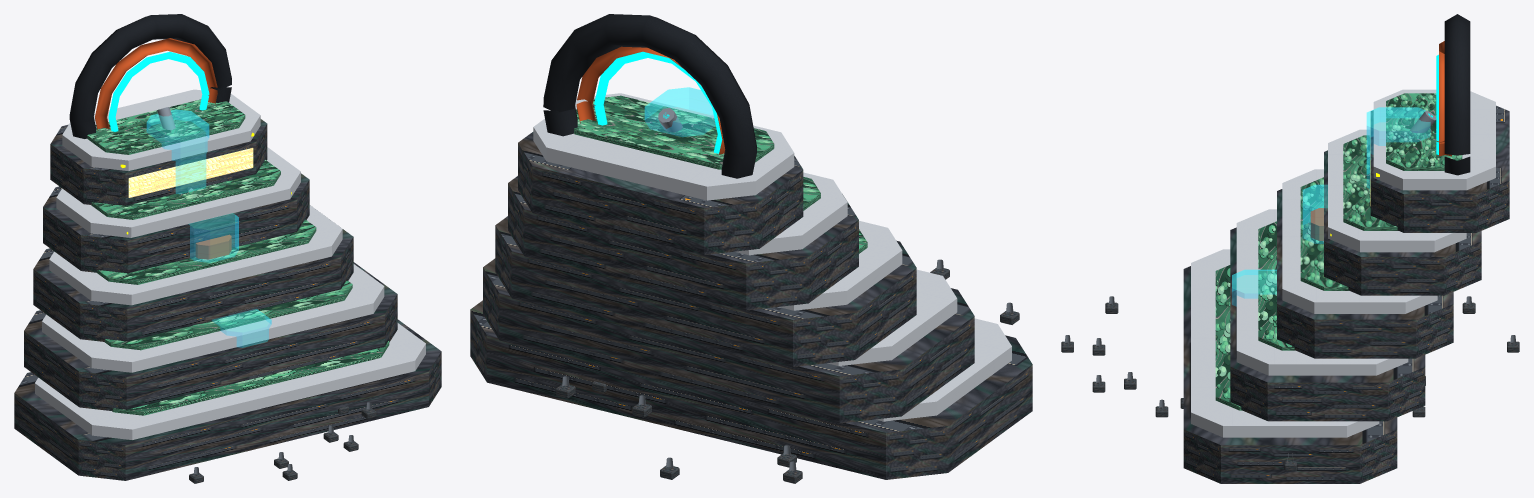
File: interior_setpiece_04_r1_01.glb
The picture shows the model from 3 angles, left to right: view 1: azimuth 30°, elevation 25°; view 2: azimuth 150°, elevation 25°; view 3: azimuth 270°, elevation 25°; orthographic projection. The views are drawn at different scales.
Parts seen in each view (by area): view 1: Setpiece04_C01_cliff_basalt, Setpiece04_C01_aero_white, Setpiece04_C01_biome_canopy, Setpiece04_C01_glass_cyan, Setpiece04_C01_gunmetal, Setpiece04_C01_accent_orange, Setpiece04_C01_window_warm_amber, Setpiece04_C01_led_cyan, Setpiece04_C01_steel_machined; view 2: Setpiece04_C01_cliff_basalt, Setpiece04_C01_aero_white, Setpiece04_C01_gunmetal, Setpiece04_C01_biome_canopy, Setpiece04_C01_glass_cyan, Setpiece04_C01_accent_orange, Setpiece04_C01_led_cyan, Setpiece04_C01_steel_machined; view 3: Setpiece04_C01_cliff_basalt, Setpiece04_C01_aero_white, Setpiece04_C01_biome_canopy, Setpiece04_C01_glass_cyan, Setpiece04_C01_gunmetal, Setpiece04_C01_accent_orange, Setpiece04_C01_steel_machined.
Part boxes in pixels (box(x1,y1,x2,y2)): Setpiece04_C01_cliff_basalt: box(14, 119, 441, 483); Setpiece04_C01_aero_white: box(35, 89, 425, 439); Setpiece04_C01_biome_canopy: box(87, 99, 389, 415); Setpiece04_C01_glass_cyan: box(146, 109, 271, 347); Setpiece04_C01_gunmetal: box(69, 14, 231, 138); Setpiece04_C01_accent_orange: box(95, 38, 231, 259); Setpiece04_C01_window_warm_amber: box(128, 148, 253, 197); Setpiece04_C01_led_cyan: box(108, 52, 209, 131); Setpiece04_C01_steel_machined: box(157, 107, 371, 474); Setpiece04_C01_cliff_basalt: box(470, 132, 1032, 483); Setpiece04_C01_aero_white: box(533, 93, 1011, 421); Setpiece04_C01_gunmetal: box(543, 14, 756, 178); Setpiece04_C01_biome_canopy: box(574, 95, 867, 253); Setpiece04_C01_glass_cyan: box(644, 87, 715, 136); Setpiece04_C01_accent_orange: box(576, 46, 725, 154); Setpiece04_C01_led_cyan: box(594, 51, 722, 153); Setpiece04_C01_steel_machined: box(562, 108, 1013, 471); Setpiece04_C01_cliff_basalt: box(1061, 105, 1519, 483); Setpiece04_C01_aero_white: box(1191, 89, 1495, 437); Setpiece04_C01_biome_canopy: box(1215, 93, 1462, 410); Setpiece04_C01_glass_cyan: box(1232, 107, 1430, 306); Setpiece04_C01_gunmetal: box(1444, 14, 1470, 175); Setpiece04_C01_accent_orange: box(1310, 41, 1451, 240); Setpiece04_C01_steel_machined: box(1064, 110, 1516, 460).
Bounding box in the file's own units: 34.58 × 30.1 × 34.29.
10 materials, 10 textured.
